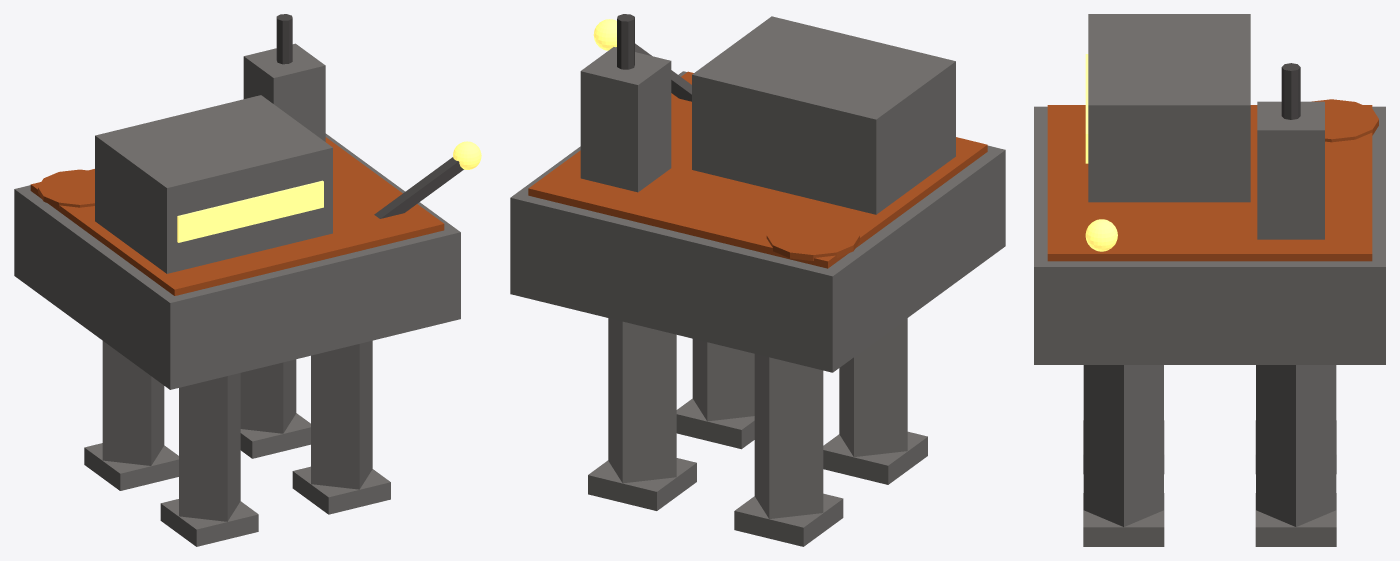
Rendered from drilling_rig_script.glb.
3 renders of one model, left to right at view 1: azimuth 30°, elevation 25°; view 2: azimuth 150°, elevation 25°; view 3: azimuth 270°, elevation 25°, orthographic. The views are drawn at different scales.
Visible parts, largest first — view 1: Cube.008, Cube.010, Cube.009, Cube.004, Cube.006, Cube.002, Cube.012, Cube.011, Cube, Cube.005, Cube.007, Cube.003 (+5 smaller); view 2: Cube.008, Cube.010, Cube.009, Cube.012, Cube.002, Cube, Cube.004, Cube.006, Cylinder.001, Cube.003, Cube.001, Cube.005 (+3 smaller); view 3: Cube.008, Cube.010, Cube.009, Cube, Cube.006, Cube.012, Cube.001, Cube.007, Cylinder.001, Cylinder, Sphere, Cube.011.
Boxes of the visible parts, x1,y1,x2,y2 form: Cube.008: (14,133,460,389); Cube.010: (95,95,332,273); Cube.009: (30,137,444,295); Cube.004: (179,373,240,521); Cube.006: (311,340,372,489); Cube.002: (102,341,164,465); Cube.012: (243,43,325,141); Cube.011: (177,180,323,242); Cube: (240,359,296,433); Cube.005: (160,499,258,546); Cube.007: (292,466,390,514); Cube.003: (84,443,178,490); Cube.008: (510,71,1005,372); Cube.010: (692,16,955,214); Cube.009: (528,71,987,268); Cube.012: (580,47,671,192); Cube.002: (754,354,823,518); Cube: (608,318,676,483); Cube.004: (839,318,907,456); Cube.006: (692,339,754,421); Cylinder.001: (766,215,859,260); Cube.003: (734,493,843,546); Cube.001: (588,458,696,510); Cube.005: (823,431,927,484); Cube.008: (1034,106,1385,364); Cube.010: (1088,14,1250,202); Cube.009: (1047,105,1372,261); Cube: (1256,365,1336,526); Cube.006: (1083,365,1163,526); Cube.012: (1257,101,1324,239); Cube.001: (1255,493,1336,546); Cube.007: (1083,493,1164,546); Cylinder.001: (1312,99,1378,142); Cylinder: (1281,63,1300,119); Sphere: (1085,219,1117,251); Cube.011: (1085,54,1088,163).
Bounding box in the file's own units: 32.7 × 38.5 × 26.
